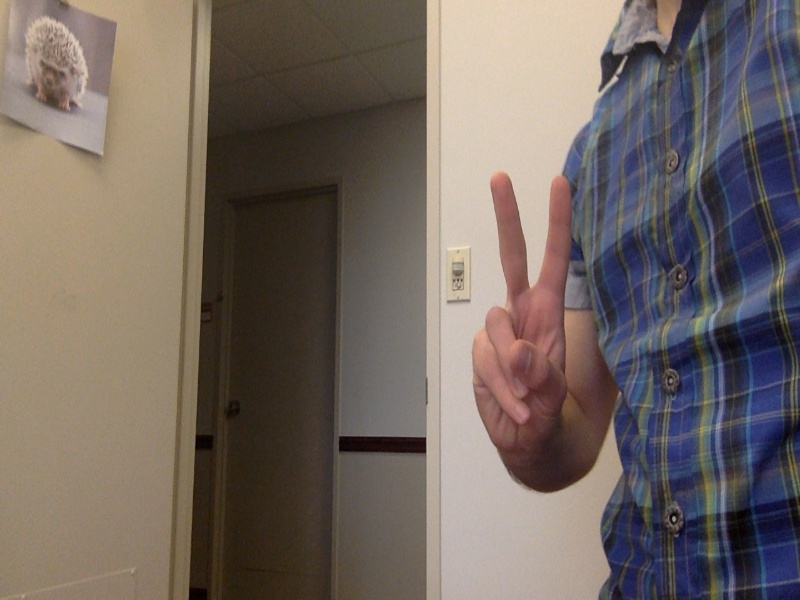2-hand: (467, 173, 579, 459)
